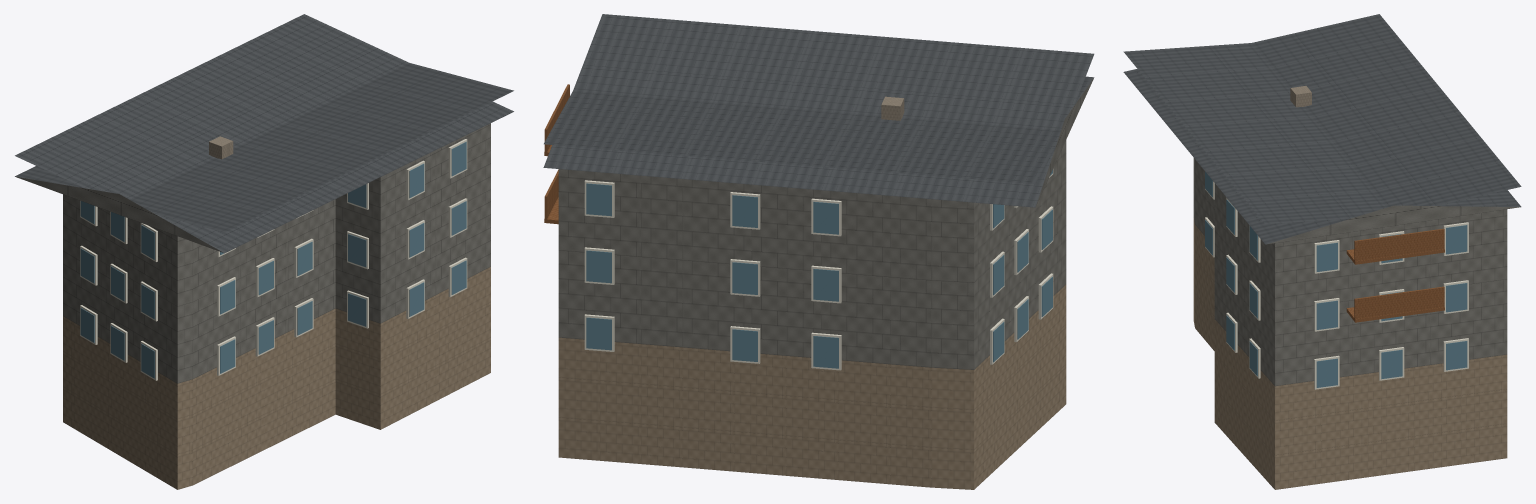
The model's file is core_0123.gltf.
The picture shows the model from 3 angles, left to right: view 1: azimuth 30°, elevation 25°; view 2: azimuth 150°, elevation 25°; view 3: azimuth 270°, elevation 25°; orthographic projection. The views are drawn at different scales.
Parts seen in each view (by area): view 1: core_0123; view 2: core_0123; view 3: core_0123.
Boxes of the visible parts, <box> form: core_0123: <box>15,14,513,489</box>; core_0123: <box>543,14,1094,489</box>; core_0123: <box>1123,14,1521,489</box>.
Bounding box in the file's own units: 22.2 × 13.65 × 17.76.
Materials: 7 (7 with a texture image).
